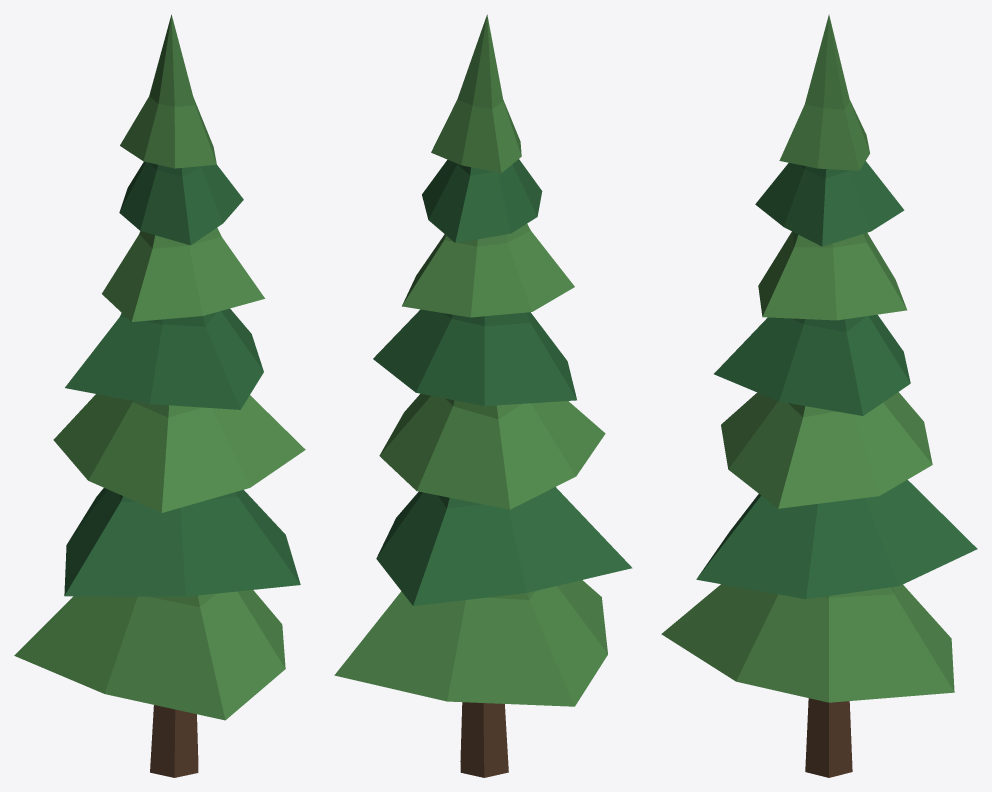
The model's file is tree_pine_b.glb.
3 views of the same model, side by side, from view 1: azimuth 30°, elevation 25°; view 2: azimuth 150°, elevation 25°; view 3: azimuth 270°, elevation 25° (orthographic).
Parts seen in each view (by area): view 1: Canopy, Trunk; view 2: Canopy, Trunk; view 3: Canopy, Trunk.
Boxes of the visible parts, left/top/right/bottom form: Canopy: left=14, top=14, right=305, bottom=720; Trunk: left=150, top=705, right=198, bottom=777; Canopy: left=334, top=14, right=632, bottom=706; Trunk: left=460, top=702, right=508, bottom=777; Canopy: left=661, top=14, right=977, bottom=702; Trunk: left=805, top=698, right=852, bottom=777.
Bounding box in the file's own units: 3.97 × 12.06 × 4.61.
